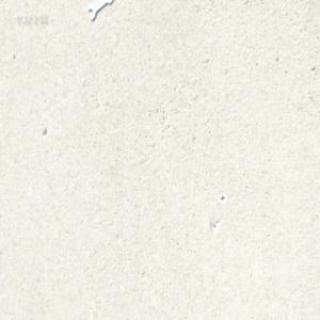Wrenchtrack_idkeyframe: (88, 0, 112, 21)
